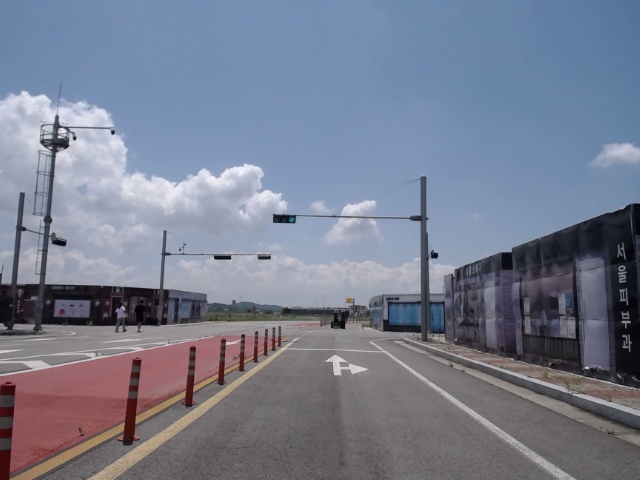green_3: (274, 216, 295, 222)
